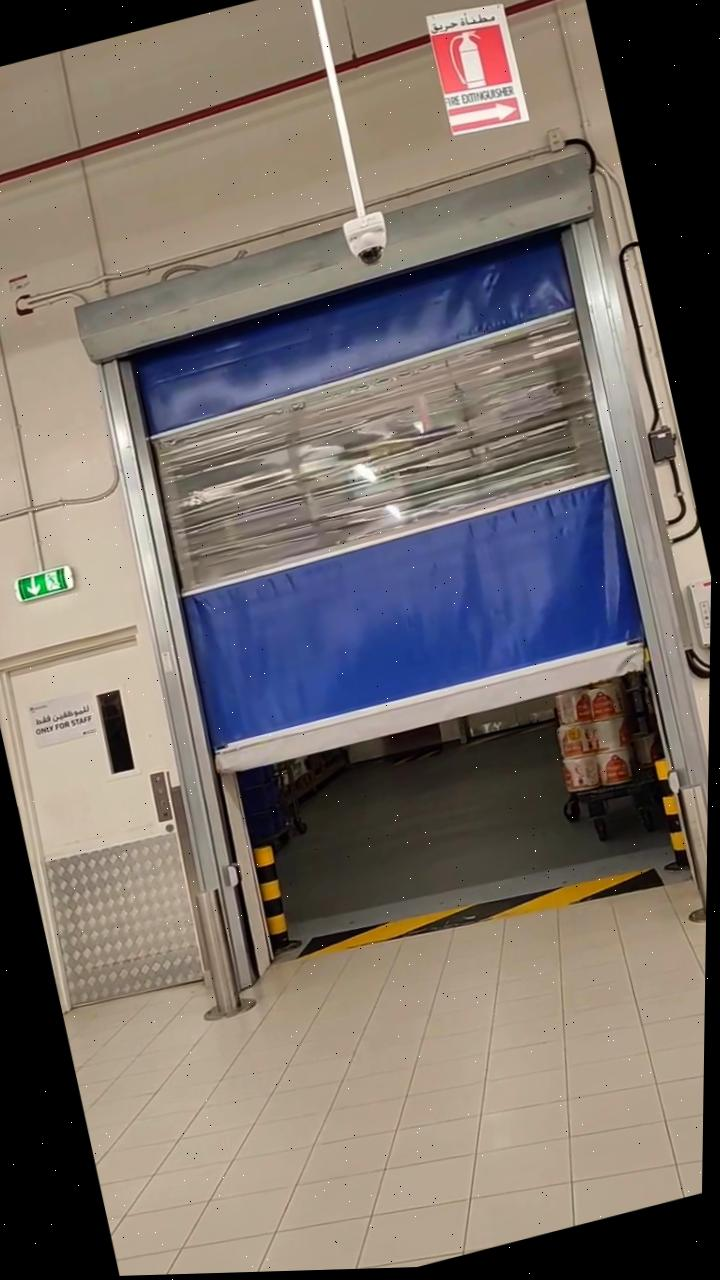Strip: (296, 834, 669, 990)
